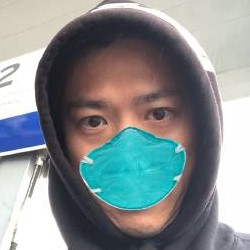mask: (67, 117, 199, 220)
